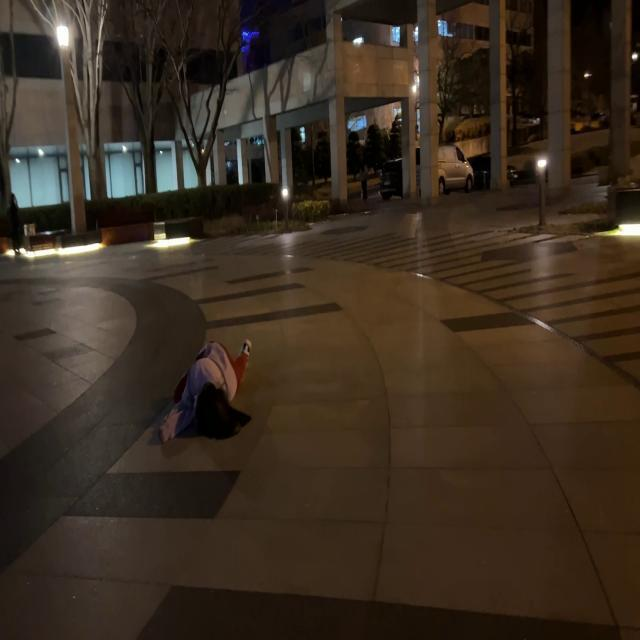Fall: (159, 340, 252, 444)
